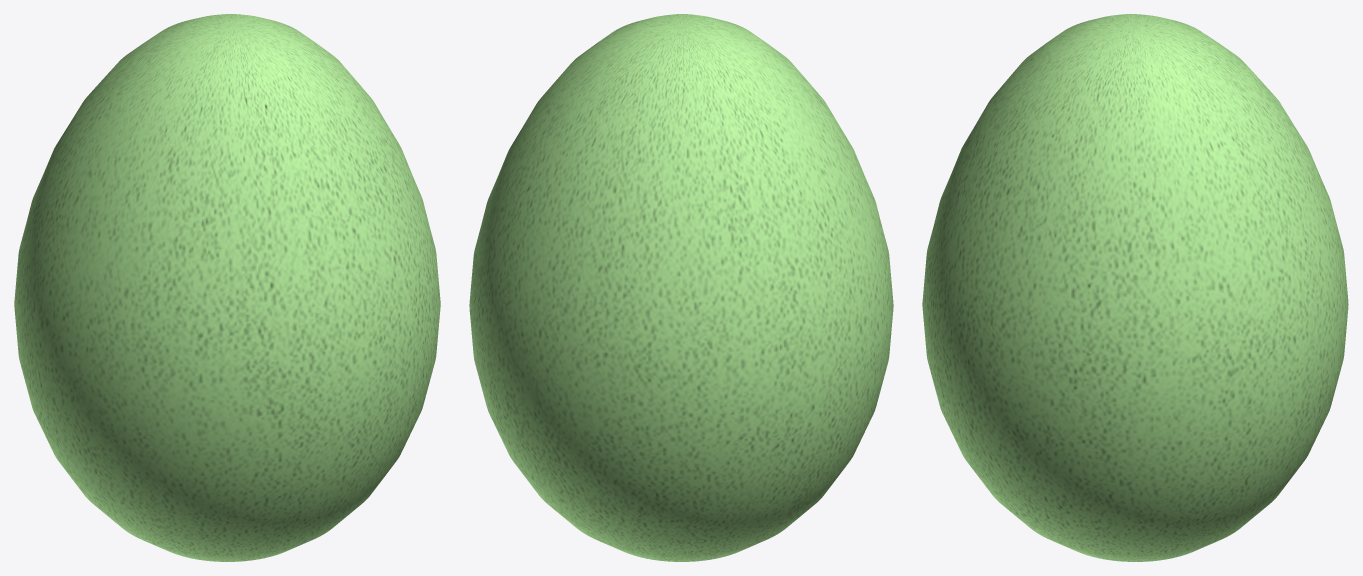
Rendered from DuckEggGreen.fbx.
The picture shows the model from 3 angles, left to right: view 1: azimuth 30°, elevation 25°; view 2: azimuth 150°, elevation 25°; view 3: azimuth 270°, elevation 25°; orthographic projection.
Parts seen in each view (by area): view 1: Sphere; view 2: Sphere; view 3: Sphere.
Boxes of the visible parts, box(x1,y1,x2,y2) form: Sphere: box(14, 14, 440, 561); Sphere: box(469, 14, 893, 561); Sphere: box(922, 14, 1348, 561).
Size of the model in its own units: 1.6 by 2.16 by 1.6.
